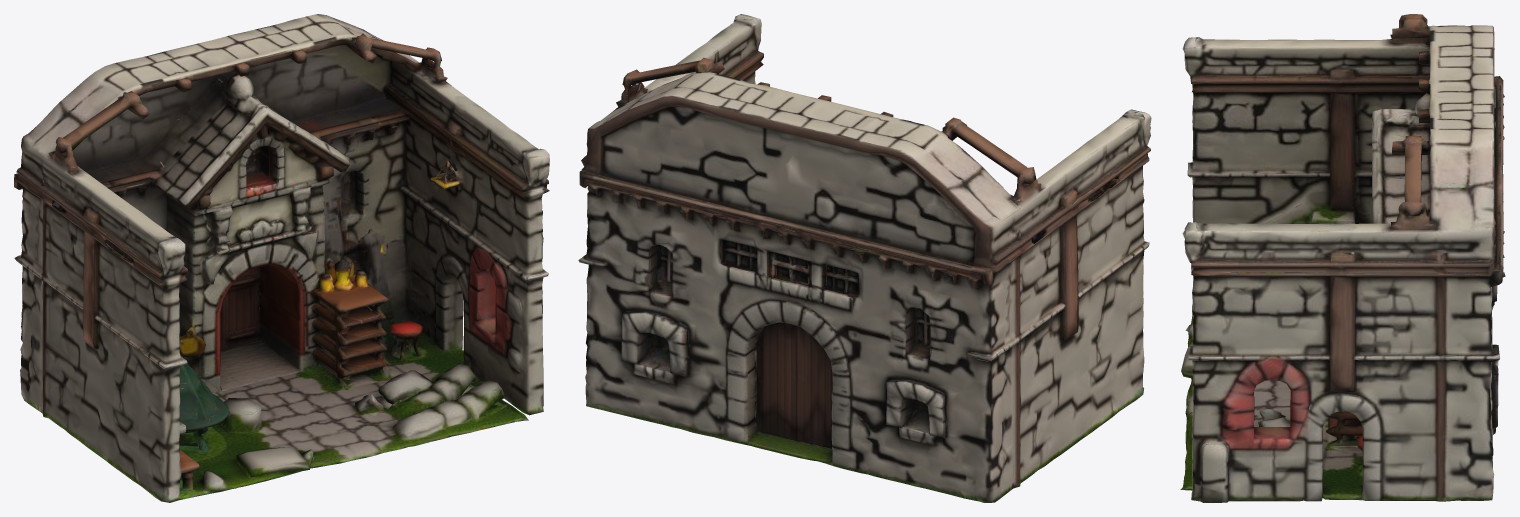
The model's file is Dwarven Building #22_final.glb.
The picture shows the model from 3 angles, left to right: view 1: azimuth 30°, elevation 25°; view 2: azimuth 150°, elevation 25°; view 3: azimuth 270°, elevation 25°; orthographic projection. The views are drawn at different scales.
Bounding box in the file's own units: 1.91 × 1.47 × 1.33.
1 material, 1 textured.
